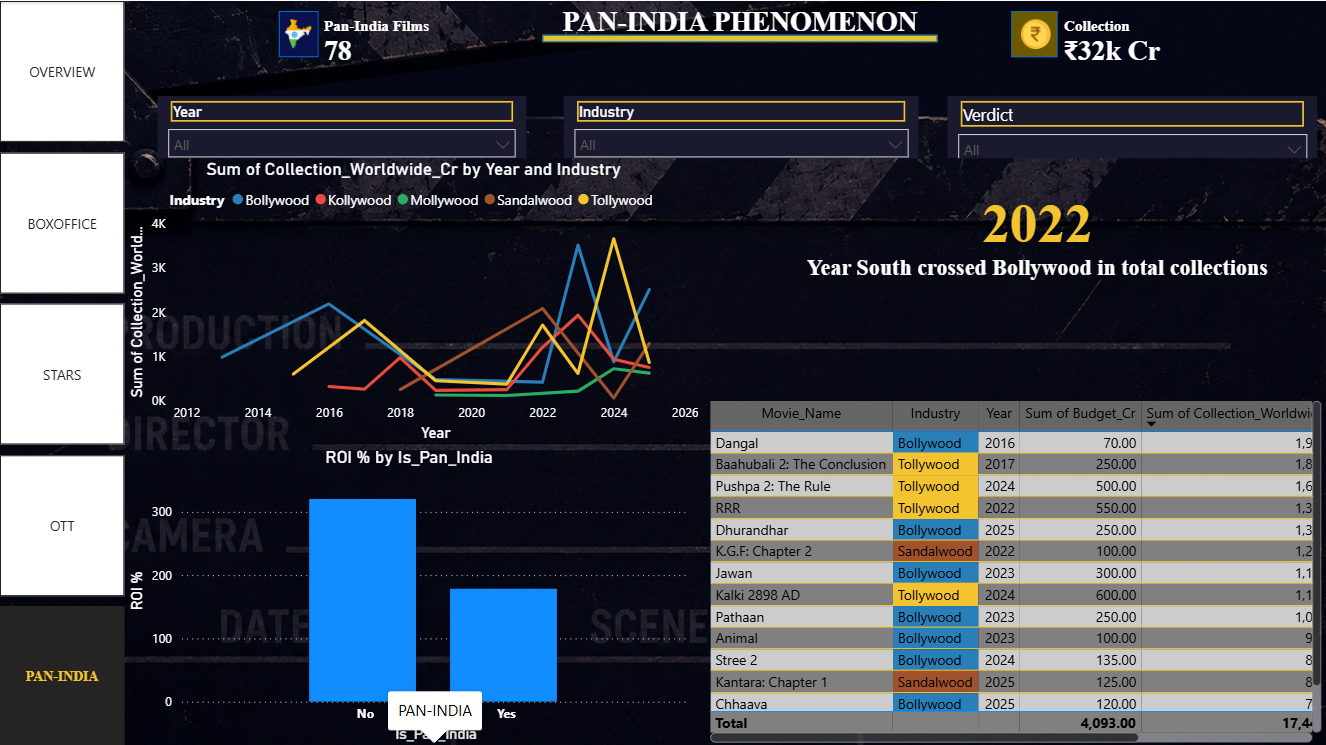

This screenshot's page, from the dashboard's own definition file:
{"tool":"powerbi","page":{"name":"PAN-INDIA","canvas":[1280,720],"ordinal":4},"visuals":[{"type":"shape","box":[269,9.7,38.6,44.6],"z":0,"group":"g3"},{"type":"lineChart","fields":{"Category":["Movies.Year"],"Y":["Sum(Movies.Collection_Worldwide_Cr)"],"Series":["Movies.Industry"]},"box":[119.4,152,559.8,277.5],"z":0},{"type":"image","box":[274.2,16.9,28.2,30.2],"z":1000,"group":"g3"},{"type":"columnChart","fields":{"Category":["Movies.Is_Pan_India"],"Y":["Movies.ROI %"]},"box":[119.4,429.5,551.3,290.8],"z":1000},{"type":"textbox","box":[758.9,179.8,485,115.8],"z":2000},{"type":"tableEx","fields":{"Values":["Movies.Movie_Name","Movies.Industry","Movies.Year","Sum(Movies.Budget_Cr)","Sum(Movies.Collection_Worldwide_Cr)","Movies.ROI %","Movies.Verdict"]},"box":[679.2,381.2,600.8,339],"z":3000},{"type":"actionButton","box":[0,0,100,40],"z":4000},{"type":"pageNavigator","box":[0,0,120,720.2],"z":5000},{"type":"textbox","box":[523.6,0,381.2,66.4],"z":6000},{"type":"shape","box":[523.6,32.6,381.2,7.2],"z":7000},{"type":"slicer","fields":{"Values":["Movies.Year"]},"box":[152,91.7,355.9,60.3],"z":8000},{"type":"shape","box":[976,9.7,44.6,44.6],"z":9000,"group":"g4"},{"type":"textbox","box":[1021.8,9.7,148,59.1],"z":9000,"group":"g2"},{"type":"slicer","fields":{"Values":["Movies.Industry"]},"box":[544.1,91.7,342.6,60.3],"z":9000},{"type":"image","box":[984.4,16.9,30.2,30.2],"z":10000,"group":"g4"},{"type":"slicer","fields":{"Values":["Movies.Verdict"]},"box":[914.5,91.7,357.1,60.3],"z":10000},{"type":"group","id":"g1","title":"Group 11","box":[269,9.7,187,59.1],"z":11000},{"type":"textbox","box":[307.6,9.7,148.4,59.1],"z":12000,"group":"g1"},{"type":"group","id":"g2","title":"Group 8","box":[976,9.7,194.2,59.1],"z":12000},{"type":"group","id":"g3","title":"Group 3","box":[269,9.7,38.6,44.6],"z":16000,"group":"g1"},{"type":"group","id":"g4","title":"Group 6","box":[976,9.7,44.6,44.6],"z":19000,"group":"g2"}]}

Visuals, with their boxes on the page's 1280x720 design canvas (x1, y1, x2, y2). These are canvas units, not pixel positions in the 1326x745 screenshot, which may show the page scaled, cropped or inside an application window:
shape: [x1=269, y1=10, x2=308, y2=54]
lineChart - Movies.Year x Sum(Movies.Collection_Worldwide_Cr): [x1=119, y1=152, x2=679, y2=430]
image: [x1=274, y1=17, x2=302, y2=47]
columnChart - Movies.Is_Pan_India x Movies.ROI %: [x1=119, y1=430, x2=671, y2=720]
textbox: [x1=759, y1=180, x2=1244, y2=296]
tableEx - Movies.Movie_Name x Movies.Industry: [x1=679, y1=381, x2=1280, y2=720]
actionButton: [x1=0, y1=0, x2=100, y2=40]
pageNavigator: [x1=0, y1=0, x2=120, y2=720]
textbox: [x1=524, y1=0, x2=905, y2=66]
shape: [x1=524, y1=33, x2=905, y2=40]
slicer - Movies.Year: [x1=152, y1=92, x2=508, y2=152]
shape: [x1=976, y1=10, x2=1021, y2=54]
textbox: [x1=1022, y1=10, x2=1170, y2=69]
slicer - Movies.Industry: [x1=544, y1=92, x2=887, y2=152]
image: [x1=984, y1=17, x2=1015, y2=47]
slicer - Movies.Verdict: [x1=914, y1=92, x2=1272, y2=152]
"Group 11" group: [x1=269, y1=10, x2=456, y2=69]
textbox: [x1=308, y1=10, x2=456, y2=69]
"Group 8" group: [x1=976, y1=10, x2=1170, y2=69]
"Group 3" group: [x1=269, y1=10, x2=308, y2=54]
"Group 6" group: [x1=976, y1=10, x2=1021, y2=54]
